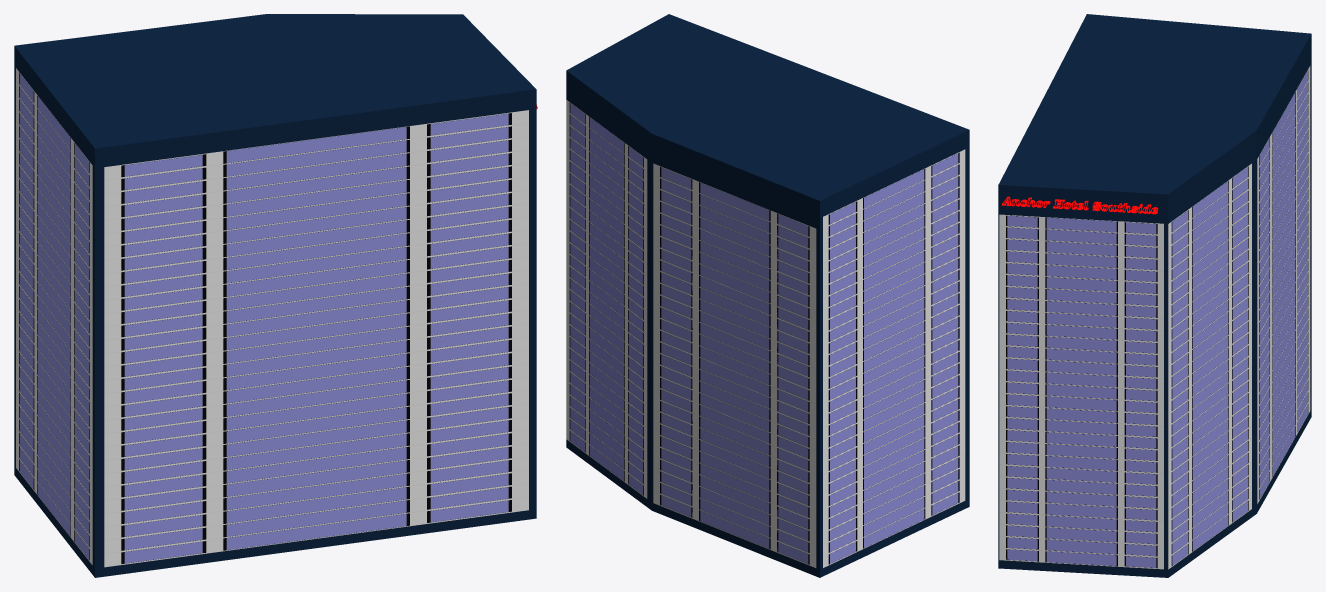
Rendered from AnchorHotel.fbx.
3 views of the same model, side by side, from view 1: azimuth 30°, elevation 25°; view 2: azimuth 150°, elevation 25°; view 3: azimuth 270°, elevation 25° (orthographic). The views are drawn at different scales.
Visible parts, largest first — view 1: Window, AnchorHotel, Window.004; view 2: AnchorHotel, Window.003, Window.004, Window.002; view 3: Window.001, AnchorHotel, Window.002, Window.003, Text.
Part boxes in pixels (left/top/right/bottom): Window: left=104, top=110, right=528, bottom=567; AnchorHotel: left=14, top=14, right=536, bottom=577; Window.004: left=16, top=68, right=92, bottom=564; AnchorHotel: left=566, top=14, right=969, bottom=577; Window.003: left=653, top=163, right=816, bottom=567; Window.004: left=823, top=149, right=965, bottom=567; Window.002: left=566, top=100, right=647, bottom=498; Window.001: left=999, top=214, right=1163, bottom=569; AnchorHotel: left=998, top=14, right=1311, bottom=577; Window.002: left=1168, top=163, right=1251, bottom=569; Window.003: left=1257, top=66, right=1310, bottom=503; Text: left=1001, top=196, right=1158, bottom=214.
Size of the model in its own units: 6651 by 6565 by 4856.
